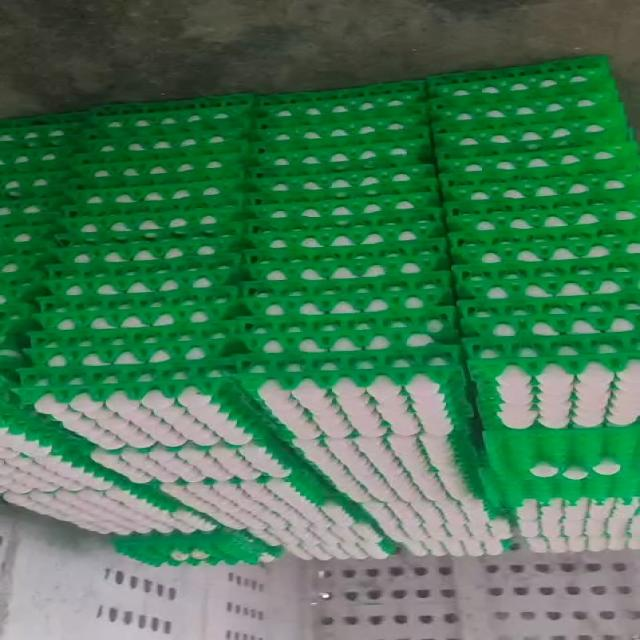egg_tray: (257, 366, 509, 554), (257, 376, 486, 553), (459, 225, 636, 428), (94, 445, 383, 556), (36, 389, 268, 527), (242, 209, 453, 352), (463, 261, 639, 428), (471, 336, 639, 503), (32, 238, 236, 365), (295, 434, 510, 554), (297, 433, 510, 554), (40, 200, 238, 328), (244, 194, 449, 315), (0, 416, 209, 532), (434, 87, 636, 207), (463, 297, 639, 428), (445, 145, 636, 261), (1, 429, 209, 532), (241, 345, 467, 439), (25, 369, 257, 459), (244, 218, 449, 315), (32, 269, 236, 366), (91, 389, 299, 483), (430, 59, 627, 157), (52, 199, 238, 302), (486, 427, 639, 552), (94, 392, 296, 482), (450, 201, 639, 297), (250, 99, 431, 199), (163, 478, 386, 559), (430, 61, 624, 154), (42, 238, 242, 327), (32, 376, 258, 450), (32, 287, 240, 367), (470, 332, 639, 429), (3, 455, 212, 533), (253, 83, 430, 175), (453, 221, 639, 303), (447, 185, 639, 262), (293, 434, 467, 510), (439, 136, 636, 201), (47, 229, 238, 296), (486, 425, 636, 505), (296, 433, 469, 502), (432, 106, 629, 166), (253, 85, 427, 151), (16, 360, 232, 413), (63, 178, 241, 242), (238, 306, 457, 355), (487, 426, 636, 498), (244, 271, 451, 321), (0, 370, 98, 474), (3, 486, 213, 534), (434, 93, 624, 146), (28, 323, 241, 367), (83, 105, 250, 161), (72, 136, 248, 189), (430, 56, 612, 107), (36, 287, 240, 331), (434, 111, 628, 157), (250, 127, 431, 176), (92, 438, 289, 483), (441, 158, 637, 203), (162, 475, 323, 529), (362, 498, 511, 556), (363, 498, 511, 556), (454, 254, 639, 300), (248, 206, 443, 249), (248, 238, 447, 280), (46, 254, 240, 297), (451, 221, 639, 265), (82, 401, 250, 450), (36, 395, 185, 450), (363, 501, 511, 556), (249, 504, 395, 559), (461, 294, 639, 339), (431, 86, 619, 128), (60, 199, 237, 243), (439, 141, 636, 180), (252, 164, 438, 205), (254, 108, 427, 152), (256, 81, 424, 126), (446, 198, 639, 235), (3, 429, 111, 493), (88, 95, 253, 136), (76, 147, 245, 187), (249, 192, 438, 227), (517, 498, 639, 552), (56, 233, 238, 268), (114, 527, 281, 565), (0, 198, 60, 303), (3, 491, 146, 532), (0, 201, 55, 306), (75, 178, 242, 212), (83, 128, 245, 163), (0, 197, 63, 282), (283, 522, 395, 559), (169, 529, 283, 565), (0, 145, 71, 197), (0, 241, 51, 308), (116, 536, 233, 565), (0, 113, 84, 152), (0, 216, 54, 273), (1, 194, 66, 232), (0, 303, 36, 370), (169, 544, 276, 565), (0, 166, 71, 197), (0, 145, 70, 175), (528, 535, 637, 552), (3, 300, 36, 348), (274, 483, 316, 512), (122, 207, 154, 228), (451, 526, 471, 552), (118, 464, 146, 482), (296, 530, 321, 547), (507, 66, 541, 78), (537, 212, 564, 226), (70, 367, 94, 382), (195, 209, 216, 225), (242, 480, 262, 495), (67, 218, 95, 228), (511, 243, 528, 258), (5, 203, 29, 211), (107, 367, 121, 379), (165, 212, 183, 221), (348, 550, 374, 556), (570, 325, 592, 332), (581, 215, 598, 224), (467, 542, 482, 552), (431, 518, 439, 536), (94, 452, 107, 463), (491, 538, 501, 552), (68, 232, 83, 241), (130, 371, 145, 379), (432, 101, 441, 114), (611, 323, 624, 331), (71, 394, 82, 403), (272, 462, 280, 474), (106, 398, 115, 407), (596, 322, 604, 331), (33, 389, 42, 397), (134, 412, 141, 422), (66, 422, 76, 429), (442, 529, 449, 539), (266, 477, 276, 483), (270, 536, 277, 544), (96, 323, 107, 328), (145, 412, 150, 422), (594, 60, 601, 67), (0, 227, 9, 232), (459, 77, 463, 87), (467, 169, 479, 172), (613, 364, 619, 370), (312, 553, 324, 556), (181, 370, 187, 376), (112, 221, 118, 227), (582, 60, 588, 66), (108, 458, 115, 463), (198, 395, 206, 399), (335, 552, 343, 556), (398, 362, 402, 370), (351, 261, 356, 267), (108, 399, 114, 404), (353, 495, 363, 498), (181, 372, 185, 379), (474, 162, 481, 166), (218, 396, 222, 403), (46, 325, 55, 328), (569, 61, 574, 66), (46, 370, 51, 375), (505, 203, 510, 208), (494, 289, 499, 294), (554, 318, 560, 322), (212, 434, 216, 440), (621, 222, 632, 224), (534, 165, 541, 168), (194, 371, 199, 375), (143, 367, 147, 372), (228, 388, 233, 392), (288, 538, 292, 543), (155, 446, 159, 451), (477, 234, 483, 237), (17, 370, 23, 373), (103, 465, 111, 467), (253, 532, 257, 536), (16, 231, 20, 235), (553, 134, 561, 136), (104, 472, 108, 476), (269, 546, 277, 548), (453, 506, 457, 510), (518, 87, 526, 89), (383, 95, 387, 99), (477, 242, 482, 245), (44, 381, 47, 386), (582, 203, 585, 208), (442, 531, 446, 534), (174, 443, 178, 446), (4, 352, 8, 355), (191, 326, 195, 329), (59, 327, 71, 328), (167, 369, 170, 373), (466, 504, 470, 507), (122, 222, 126, 225), (581, 78, 585, 81), (486, 76, 489, 80), (485, 349, 491, 351), (542, 204, 546, 207), (171, 507, 174, 510), (569, 69, 572, 72), (404, 362, 407, 365), (627, 307, 631, 309), (605, 208, 609, 210), (90, 412, 94, 414), (68, 416, 72, 418), (461, 228, 465, 230), (601, 135, 605, 137), (605, 227, 612, 228), (420, 246, 422, 249), (493, 140, 499, 141), (550, 331, 552, 334), (72, 400, 74, 403), (408, 507, 410, 510), (435, 109, 437, 112), (511, 95, 513, 98), (94, 418, 99, 419), (392, 100, 397, 101), (66, 434, 67, 438), (631, 348, 632, 352), (631, 234, 632, 238), (290, 460, 292, 462), (451, 109, 453, 111), (448, 102, 450, 104), (169, 462, 170, 466), (369, 303, 371, 305), (364, 505, 366, 507), (487, 226, 489, 228), (570, 62, 572, 64), (451, 383, 453, 385), (463, 312, 465, 314), (442, 263, 443, 266), (363, 255, 364, 258), (558, 331, 561, 332), (623, 205, 624, 208), (489, 79, 490, 82), (335, 480, 336, 483), (388, 363, 391, 364), (549, 339, 552, 340), (577, 201, 578, 204), (193, 504, 194, 506), (39, 278, 40, 280), (248, 453, 249, 455), (120, 375, 122, 376), (280, 261, 281, 263), (206, 536, 208, 537), (163, 438, 165, 439), (141, 300, 142, 302), (133, 296, 135, 297), (612, 301, 613, 303), (509, 264, 511, 265), (64, 416, 66, 417), (487, 311, 489, 312), (256, 274, 257, 275), (631, 347, 632, 348), (592, 256, 593, 257), (253, 382, 254, 383), (327, 369, 328, 370), (320, 367, 321, 368), (418, 133, 419, 134), (616, 229, 617, 230), (145, 368, 146, 368), (525, 260, 526, 260), (467, 258, 469, 258), (137, 368, 139, 368), (131, 368, 134, 368), (146, 562, 147, 562), (502, 532, 504, 532), (470, 148, 471, 148), (619, 218, 627, 218)
